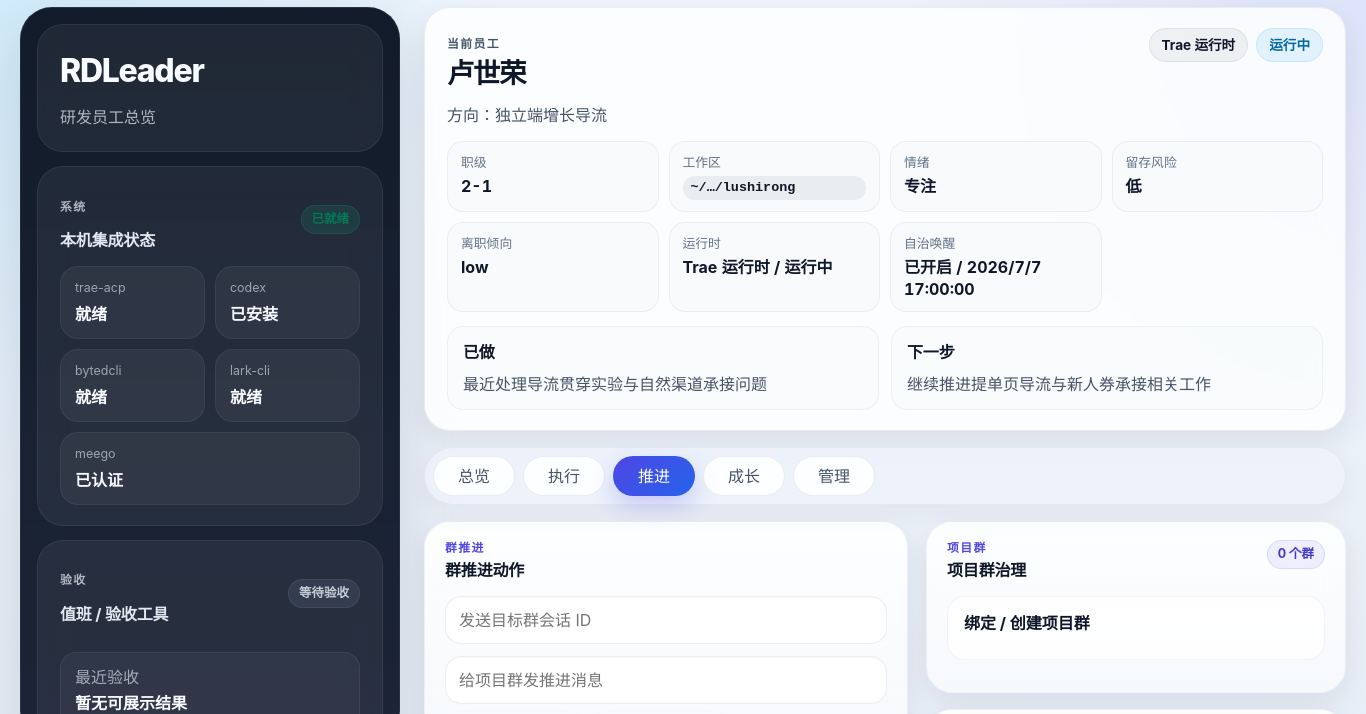
App › loads approval requests for the selected employee
The image size is (1366, 714).
Click the tab "推进".
click(654, 476)  # box x1=613 y1=456 x2=695 y2=496
(page scrolled)
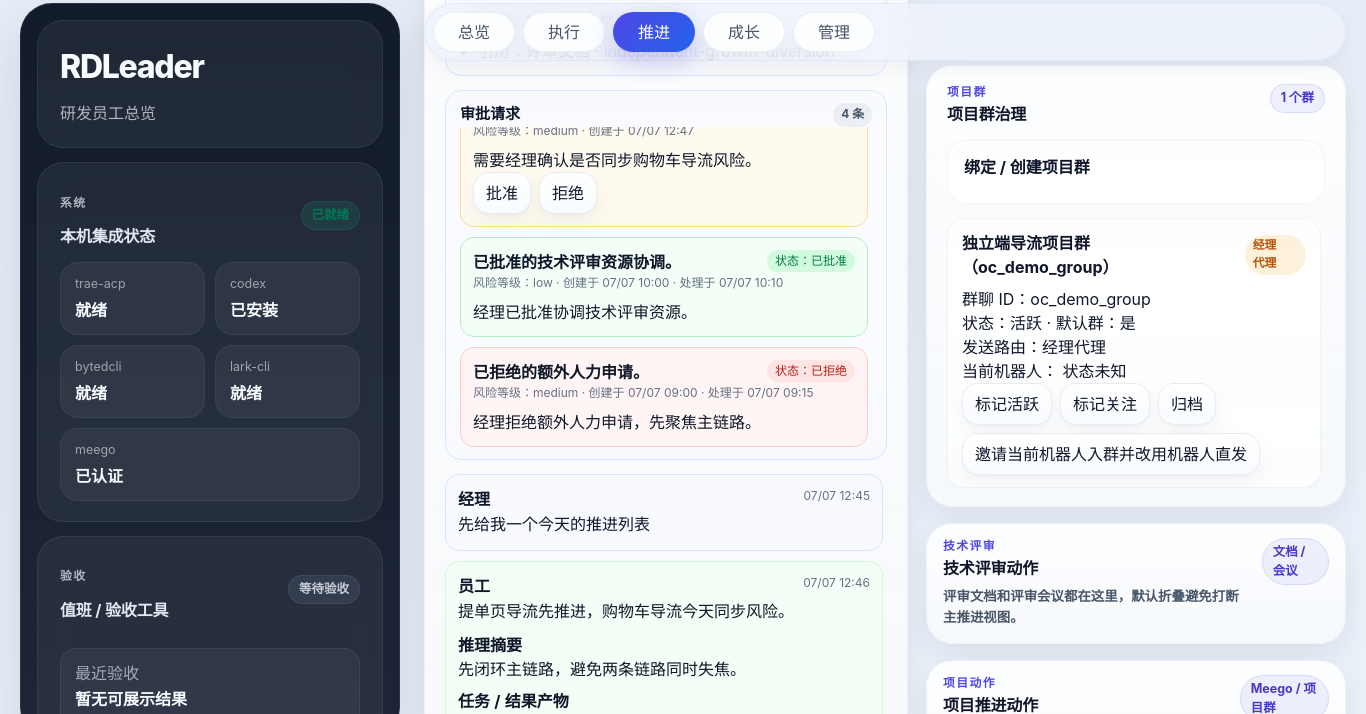
Expected: the heading "项目群治理" is shown, x1=947 y1=102 x2=1026 y2=126
Result: the text "已批准的技术评审资源协调。" is shown at x1=473 y1=250 x2=681 y2=274
Result: the text "已拒绝的额外人力申请。" is shown at x1=473 y1=360 x2=649 y2=384
